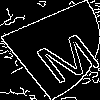M: (24, 24, 100, 85)
